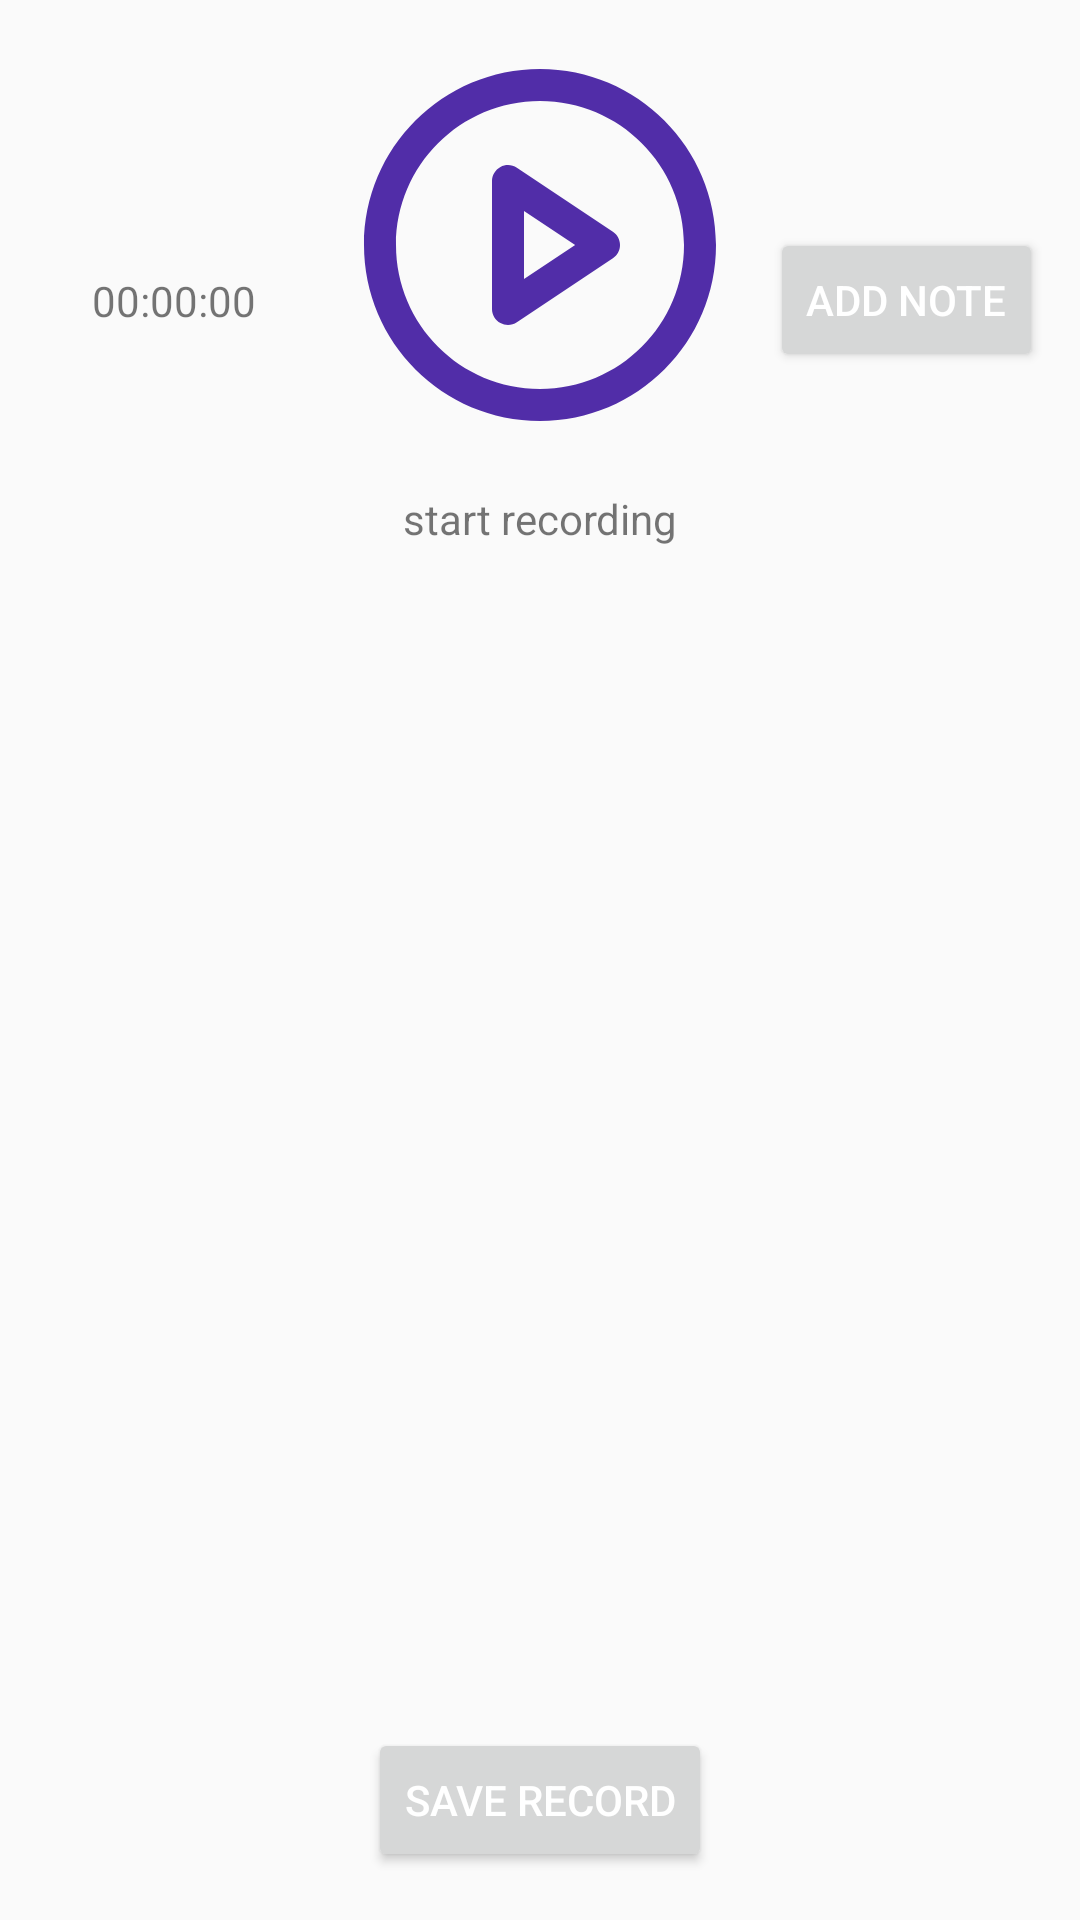

Where to tap for icons on this 1080×1920 app screen, as (x,y):
play circle: (540,245)
